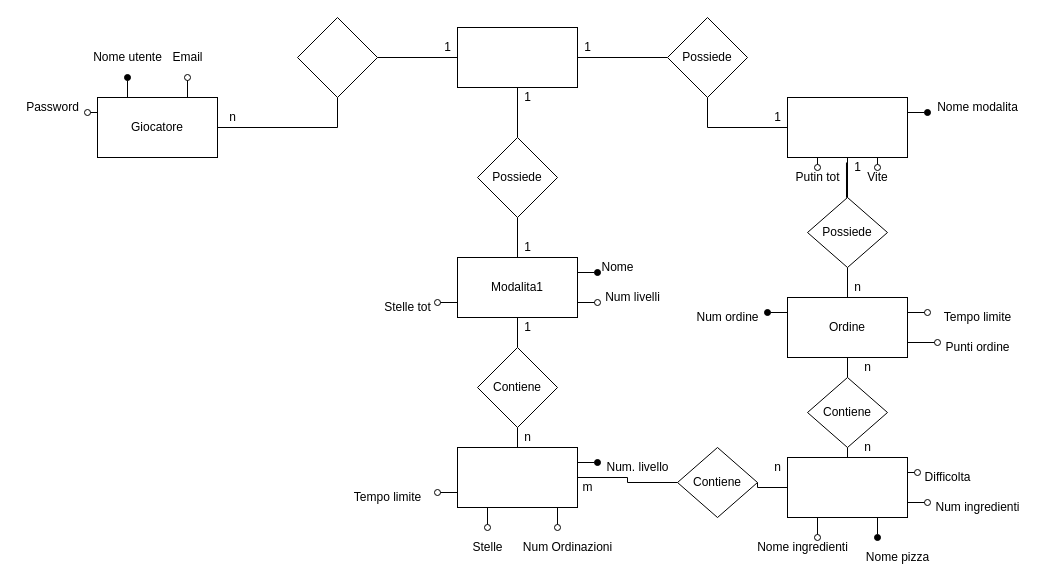
Some shapes in this 1044 by 585 pixel diagram are drawn without their labels. Here are the shapes that lost their labels. From the top down, the box of each, then its label:
(296, 16, 378, 98): Gioca
(456, 26, 578, 88): CicciosPizza
(786, 96, 908, 158): Modalita2
(456, 446, 578, 508): Livello
(786, 456, 908, 518): Pizza
